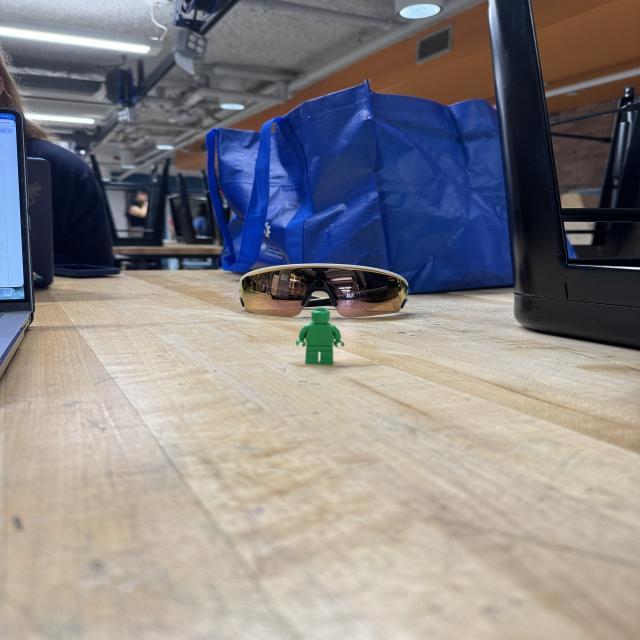Green Mini Figure: (296, 308, 344, 364)
